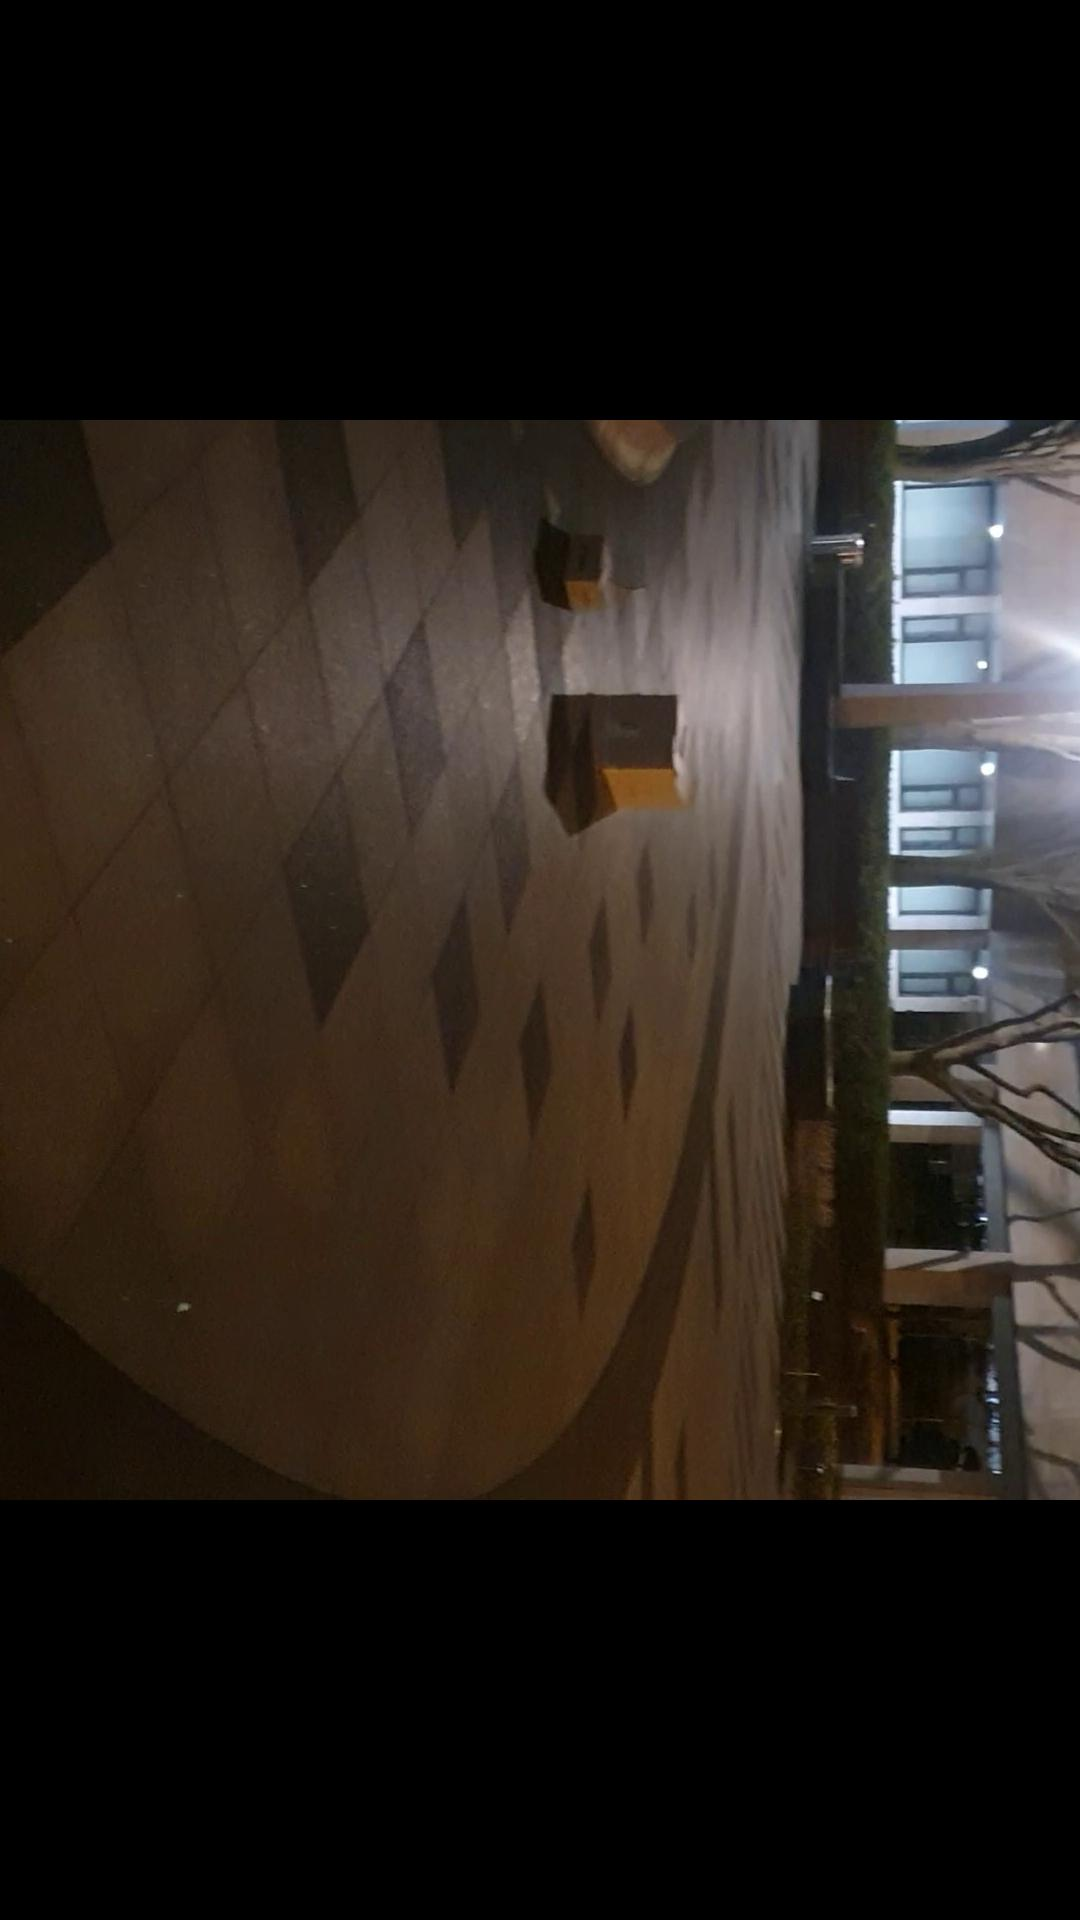Box: (580, 683, 705, 815), (562, 518, 622, 625)
